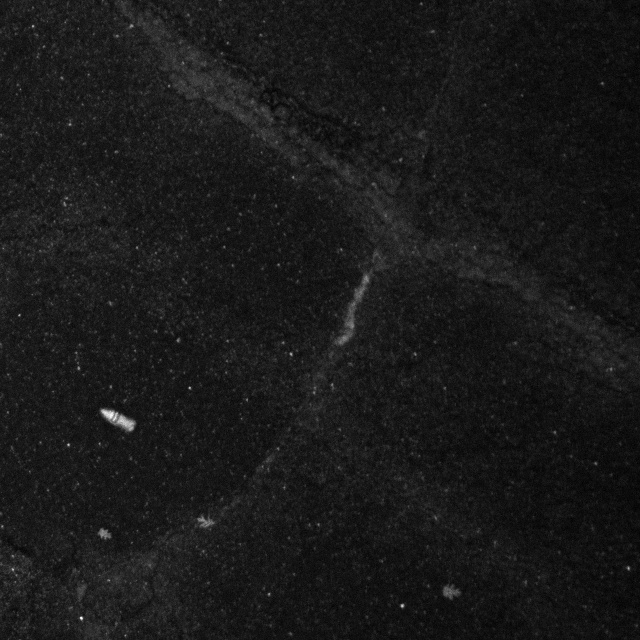bottle: (96, 398, 140, 443)
